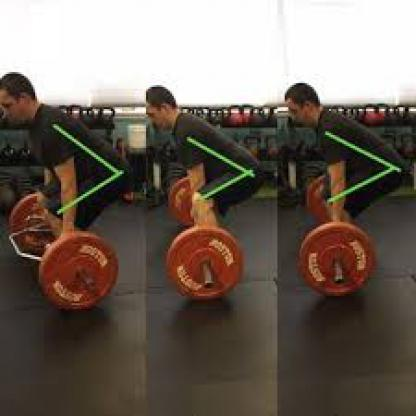barbell: (11, 192, 117, 312), (167, 178, 243, 303), (299, 177, 376, 297)
